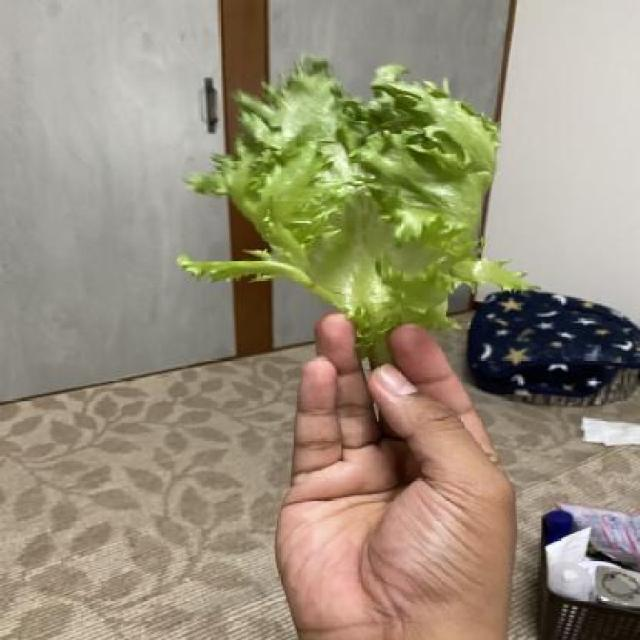Lettuce: (174, 56, 528, 349)
